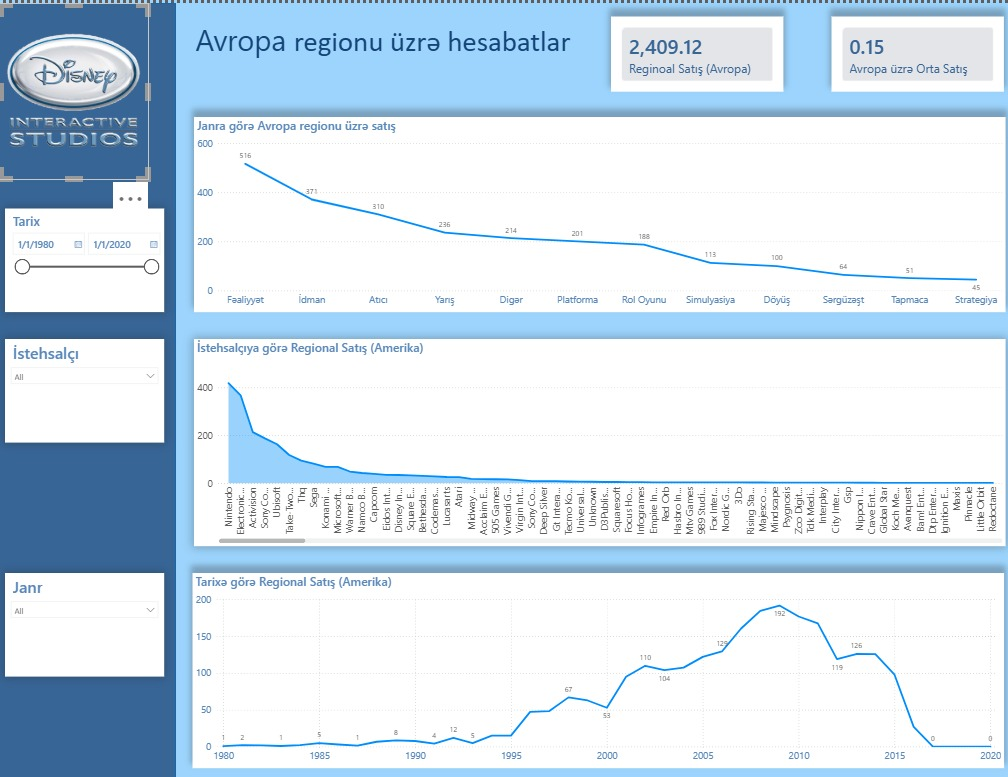

The page's visual inventory and layout, read from the dashboard file:
{"tool":"powerbi","page":{"name":"PAGE 4","canvas":[1700,1300],"ordinal":3},"visuals":[{"type":"shape","box":[0,0,295,1300],"z":0},{"type":"image","box":[25,0,250,295],"z":1000},{"type":"lineChart","title":"Tarixə görə Regional Satış (Amerika)","fields":{"Y":["Sheet 2.Reginoal Satış (Avropa)"],"Category":["Sheet 2.Tarix"]},"box":[322.5,950,1352.5,325],"z":2000},{"type":"areaChart","title":"İstehsalçıya görə Regional Satış (Amerika)","fields":{"Category":["Sheet 2.İstehsalçı"],"Y":["Sheet 2.Reginoal Satış (Avropa)"]},"box":[325,560,1352.5,345],"z":3000},{"type":"lineChart","title":"Janra görə Avropa regionu üzrə satış","fields":{"Y":["Sheet 2.Reginoal Satış (Avropa)"],"Category":["Sheet 2.Janr"]},"box":[325,190,1352.5,325],"z":4000},{"type":"cardVisual","fields":{"Data":["Sheet 2.Reginoal Satış (Avropa)"]},"box":[1020,22.5,287.5,125],"z":5000},{"type":"cardVisual","fields":{"Data":["Sheet 2.Avropa üzrə Orta Satış"]},"box":[1387.5,22.5,287.5,125],"z":6000},{"type":"slicer","fields":{"Values":["Sheet 2.Tarix"]},"box":[10,342.5,265,172.5],"z":7000},{"type":"slicer","fields":{"Values":["Sheet 2.İstehsalçı"]},"box":[10,560,265,172.5],"z":8000},{"type":"slicer","fields":{"Values":["Sheet 2.Janr"]},"box":[10,950,265,172.5],"z":9000},{"type":"textbox","box":[322.5,22.5,645,107.5],"z":10000}]}

Visuals, with their boxes on the page's 1700x1300 design canvas (x1, y1, x2, y2). These are canvas units, not pixel positions in the 1008x777 screenshot, which may show the page scaled, cropped or inside an application window:
shape: Rect(0, 0, 295, 1300)
image: Rect(25, 0, 275, 295)
"Tarixə görə Regional Satış (Amerika)" lineChart: Rect(322, 950, 1675, 1275)
"İstehsalçıya görə Regional Satış (Amerika)" areaChart: Rect(325, 560, 1678, 905)
"Janra görə Avropa regionu üzrə satış" lineChart: Rect(325, 190, 1678, 515)
cardVisual - Sheet 2.Reginoal Satış (Avropa): Rect(1020, 22, 1308, 148)
cardVisual - Sheet 2.Avropa üzrə Orta Satış: Rect(1388, 22, 1675, 148)
slicer - Sheet 2.Tarix: Rect(10, 342, 275, 515)
slicer - Sheet 2.İstehsalçı: Rect(10, 560, 275, 732)
slicer - Sheet 2.Janr: Rect(10, 950, 275, 1122)
textbox: Rect(322, 22, 968, 130)
